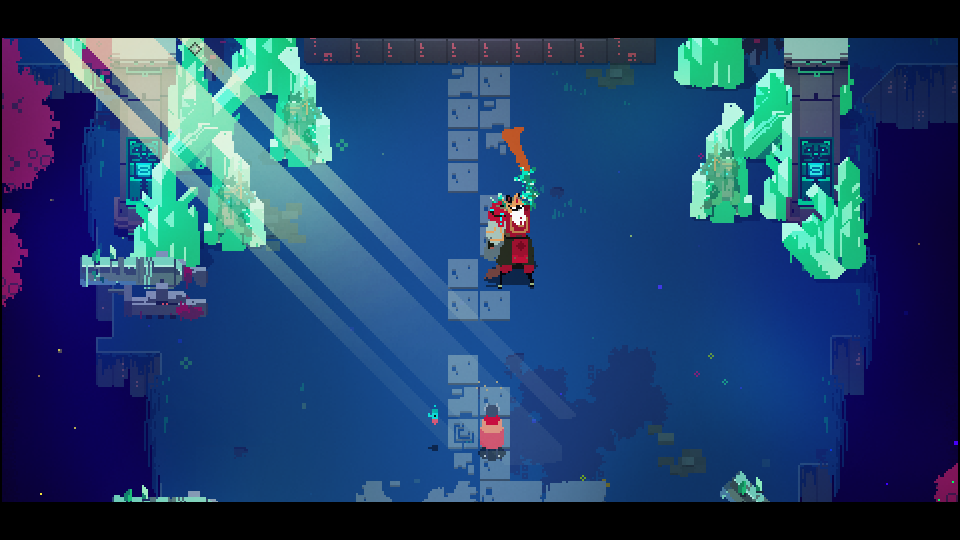hanged_man: (477, 159, 541, 294)
player: (477, 402, 508, 459)
